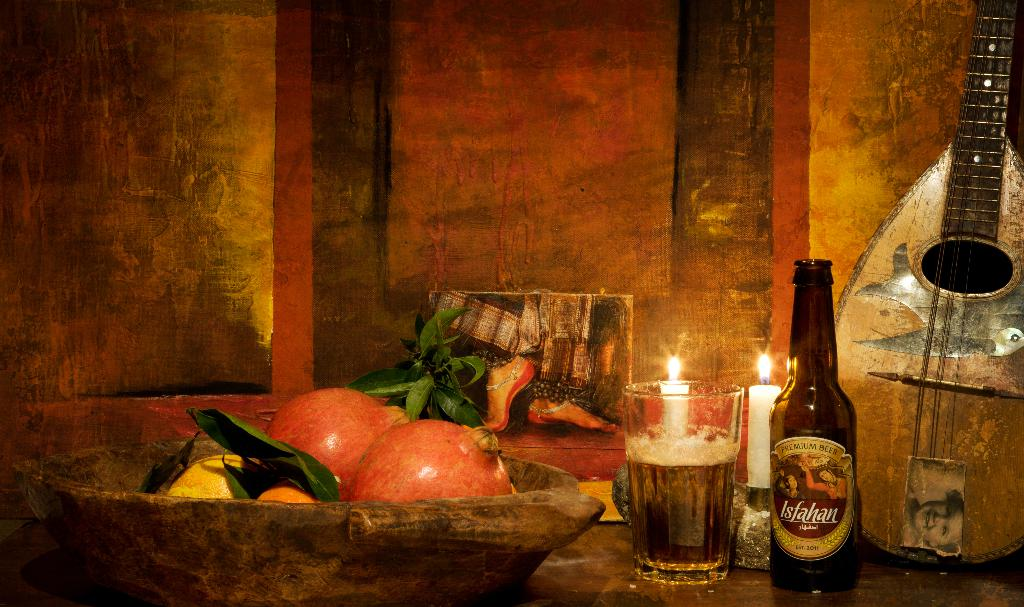Beer: (768, 250, 848, 595), (629, 445, 737, 586)
